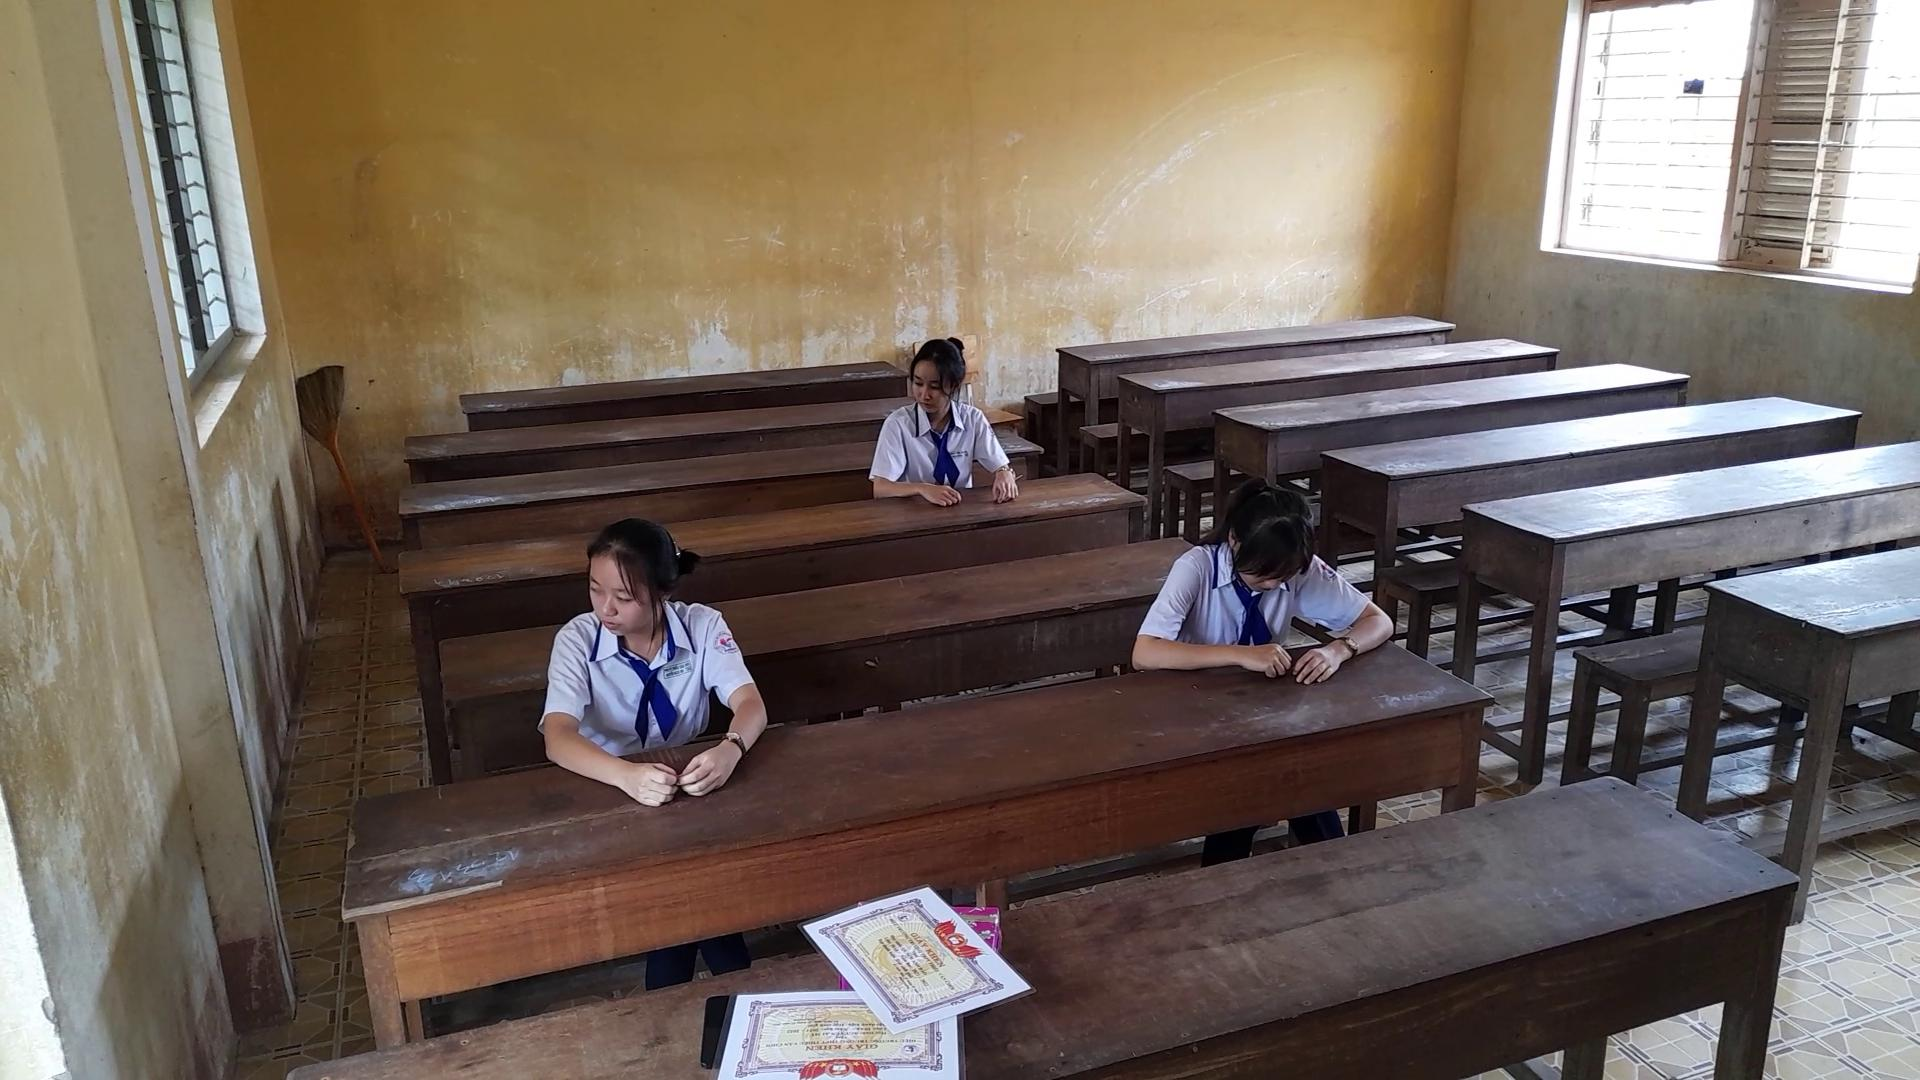Bend Over The Desk: (1182, 458, 1331, 604)
Look Around: (534, 508, 708, 637), (887, 314, 997, 425)
